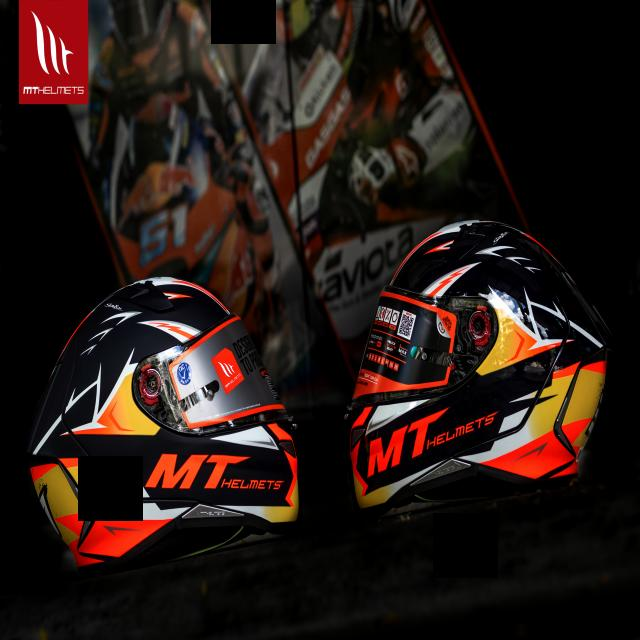Helmet: (25, 254, 300, 594), (346, 221, 610, 518)
